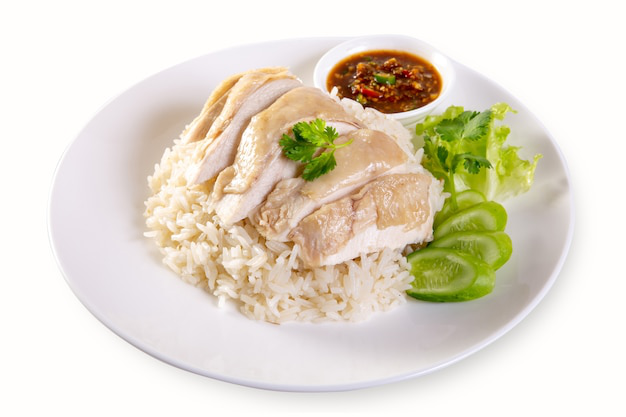Steamed Chicken Rice: (142, 67, 436, 329)
